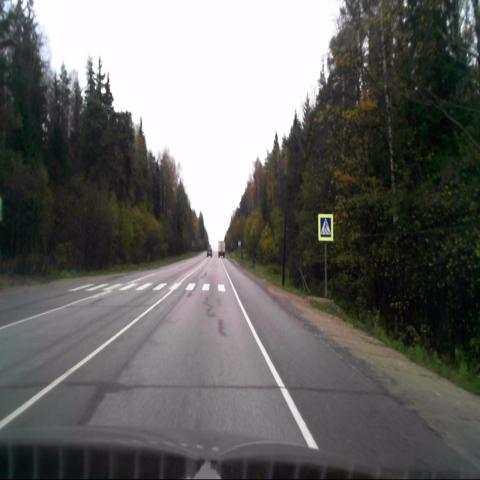5_19_1: (319, 215, 333, 241)
